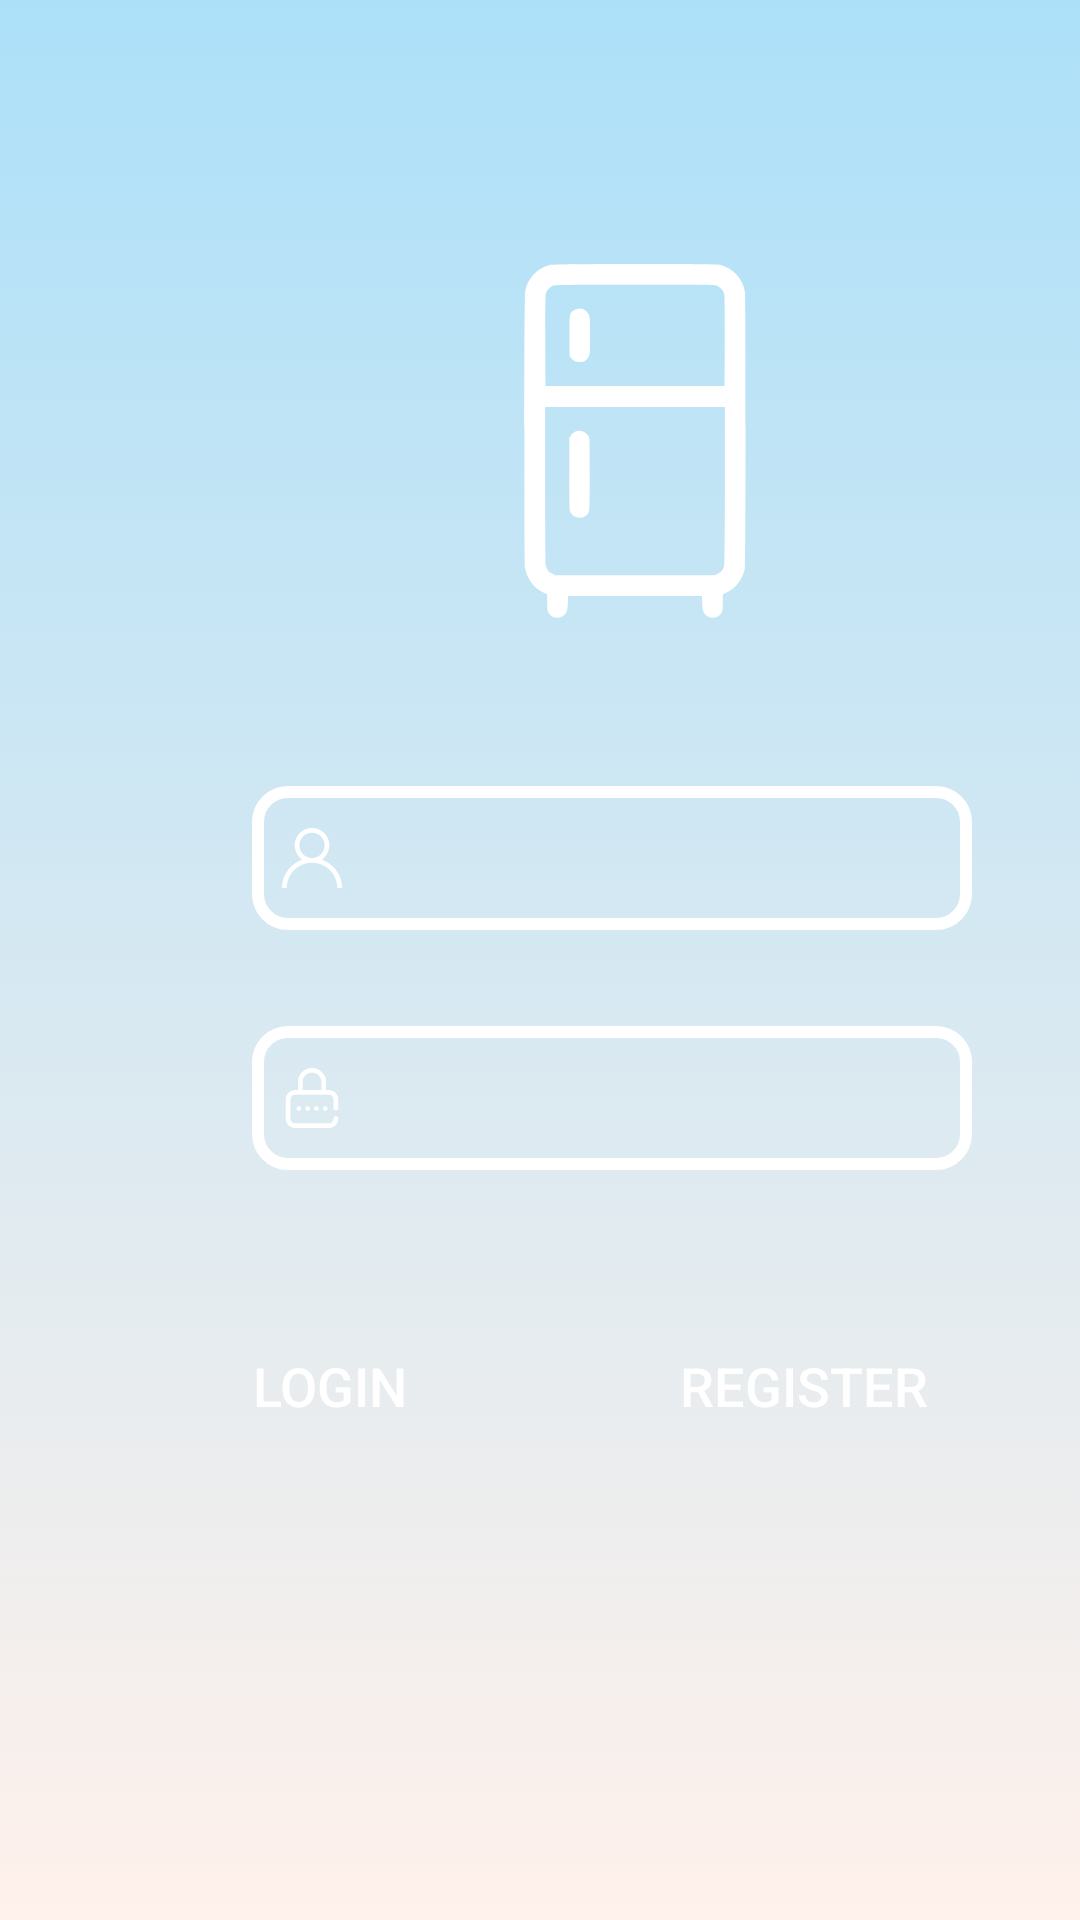

Icons on this 1080px x 1920px Android screen, each with the point to tap as [x,y]:
refrigerator: [635,441]
